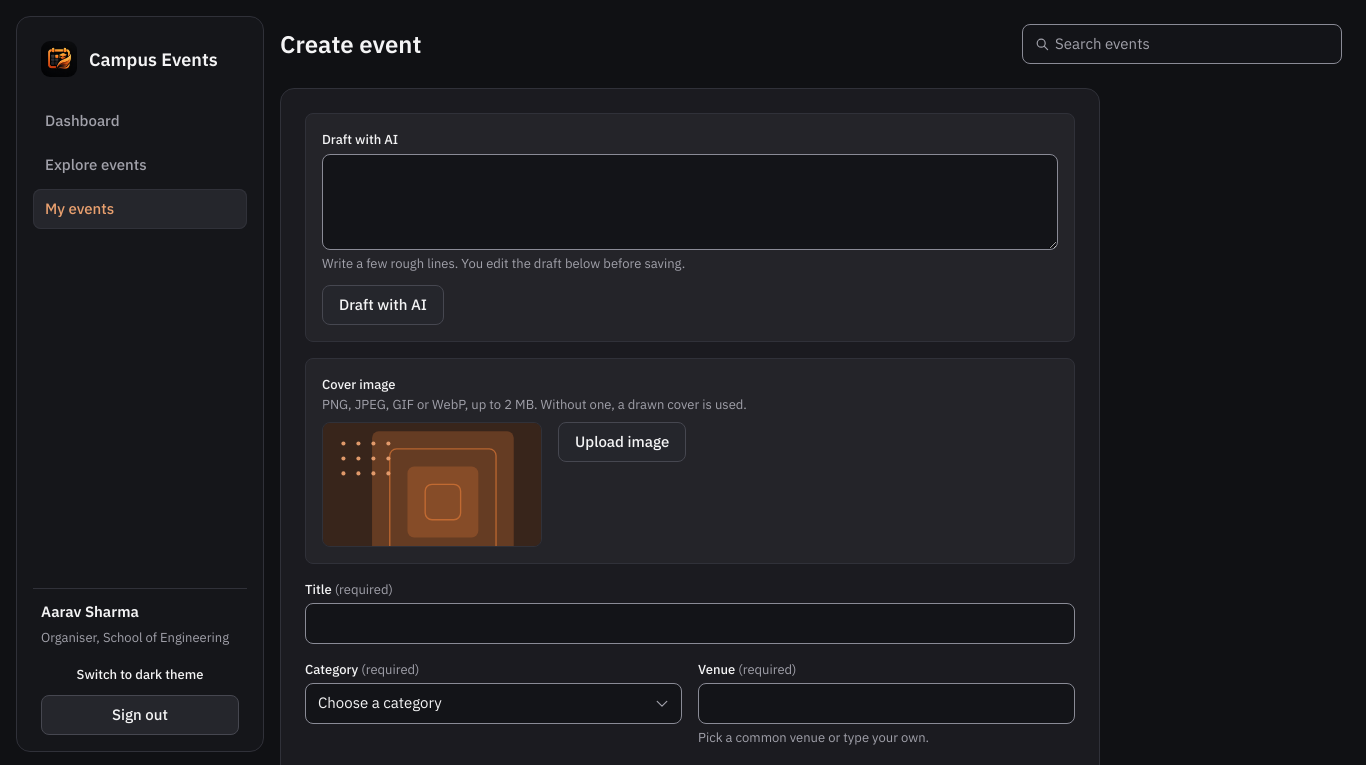
Test: create event › fills the form from an AI draft and saves nothing until the person submits
Type "drone session saturday lab" into the text box labelled "Draft with AI". click: (690, 202)
box: left=322, top=154, right=1058, bottom=250
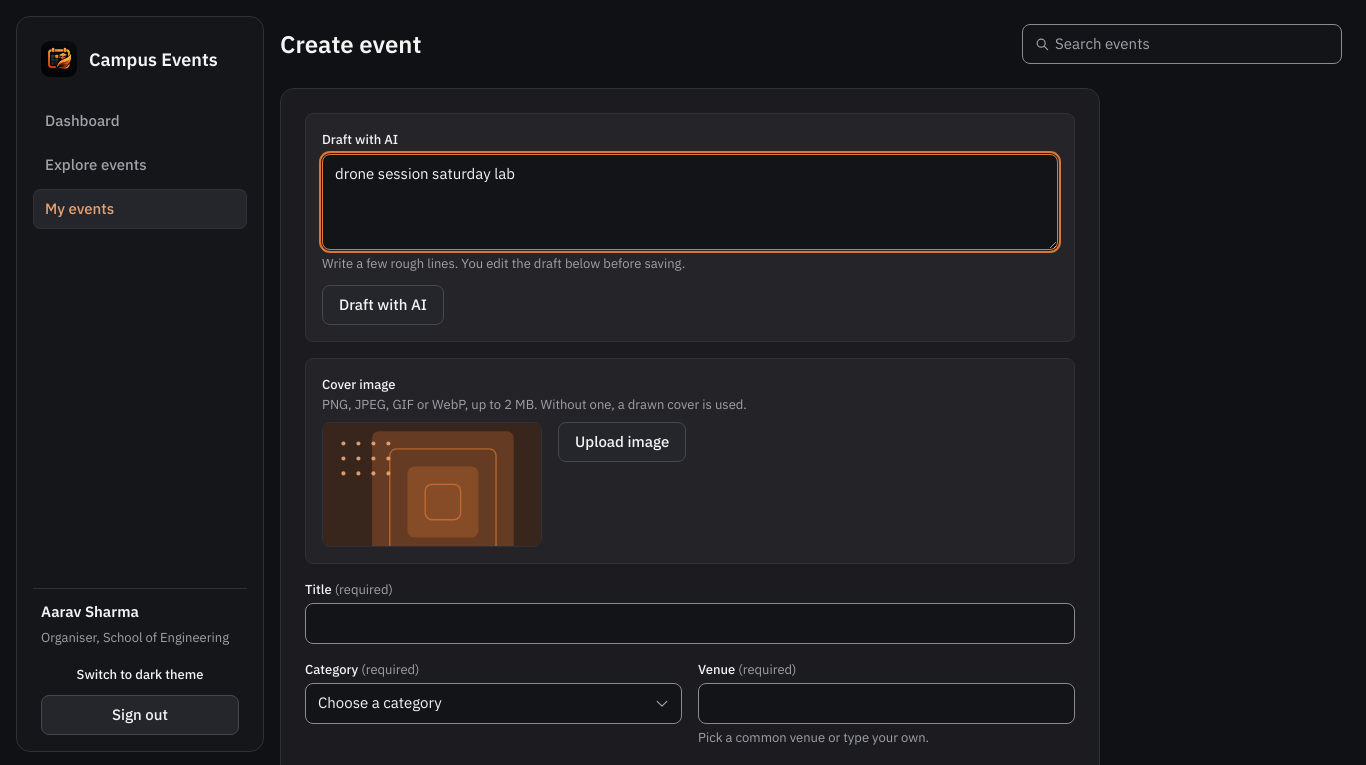
Click the button "Draft with AI". click: (383, 305)
box: left=322, top=285, right=444, bottom=325
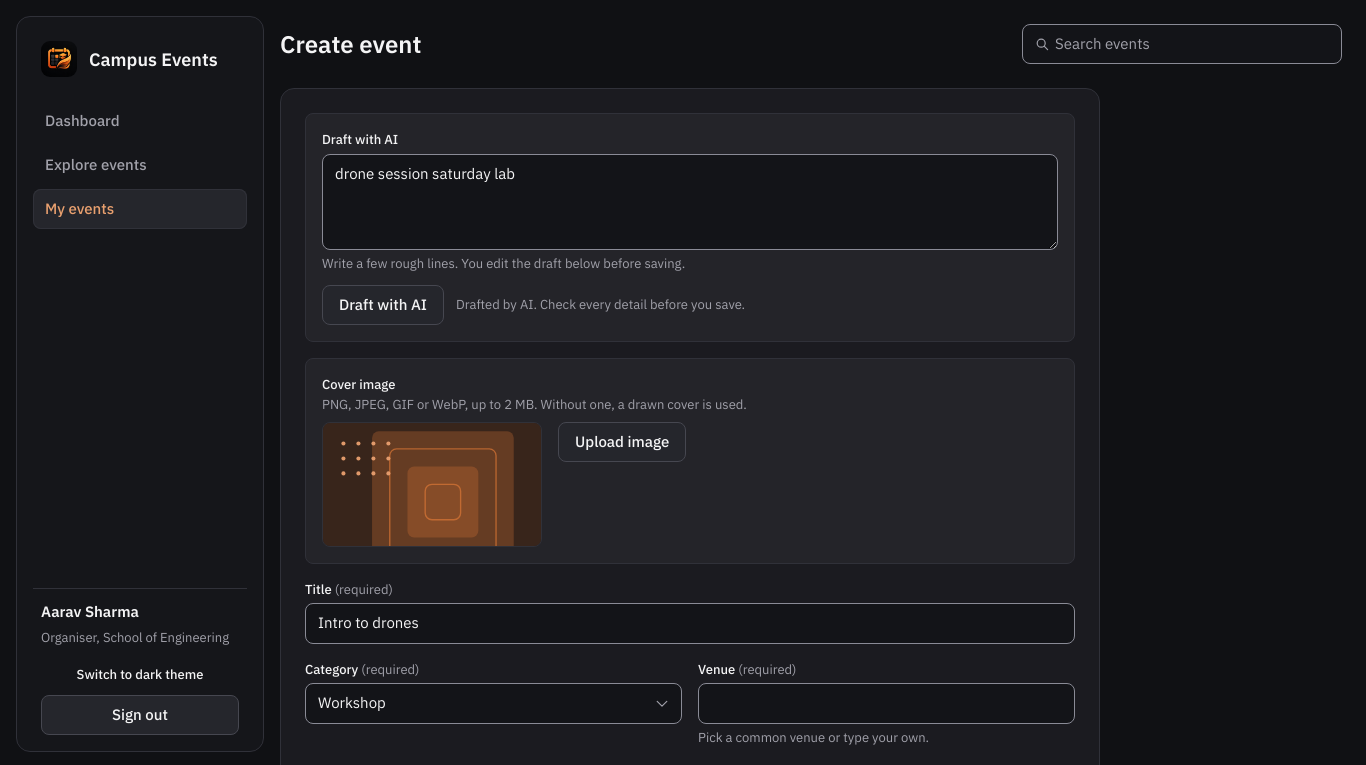
Now the field labelled "Title (required)" holds "Intro to drones", box left=305, top=603, right=1075, bottom=644
Now the dropdown labelled "Category (required)" shows "Workshop", box left=305, top=683, right=682, bottom=724
Now the text "Drafted by AI. Check every detail before you save." is shown, box left=456, top=295, right=745, bottom=315
